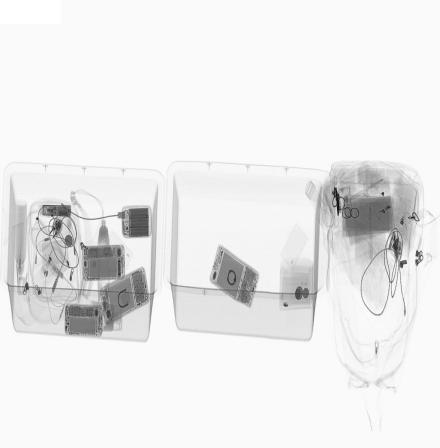Powerbank: (121, 205, 152, 239)
